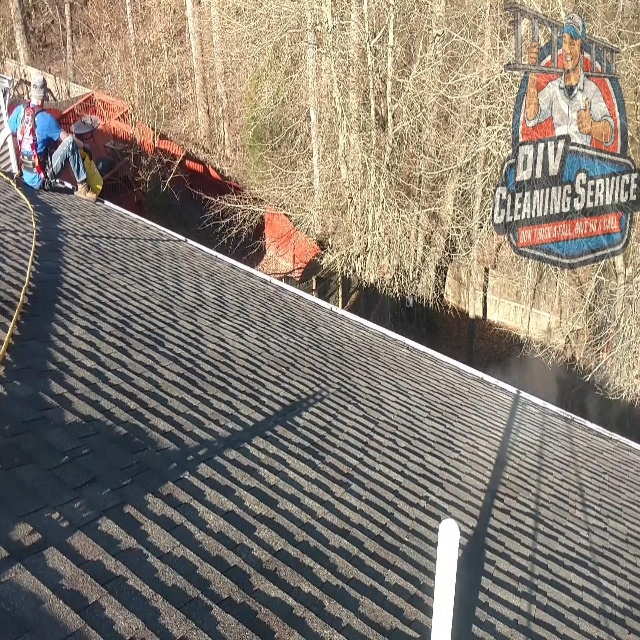Arnes_seguridad: (16, 97, 56, 190)
